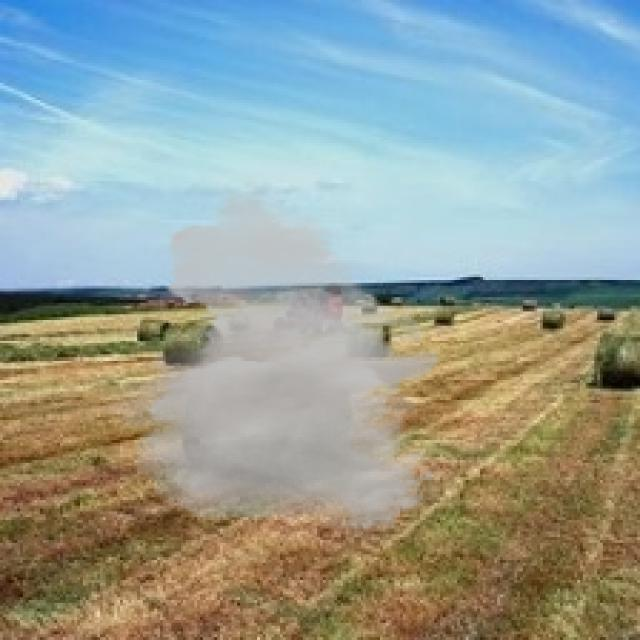smoke: (91, 180, 443, 531)
